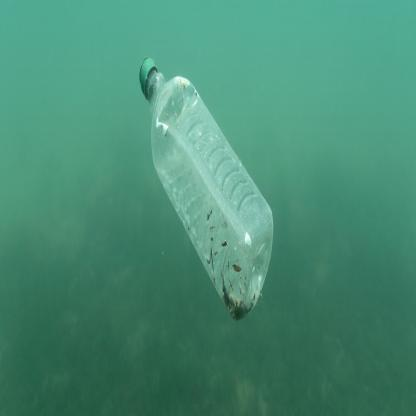Plastic: (134, 51, 278, 324)
